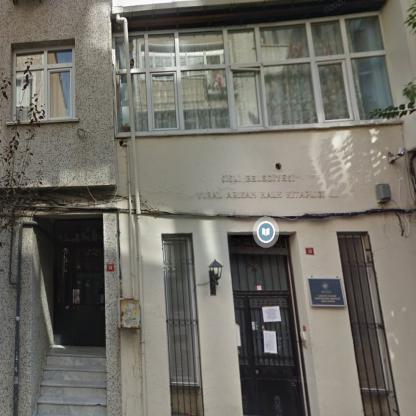door: (235, 298, 302, 414), (56, 244, 105, 344)
window: (114, 14, 397, 133), (340, 238, 386, 390), (12, 48, 74, 122), (163, 240, 195, 383), (232, 255, 288, 291)
